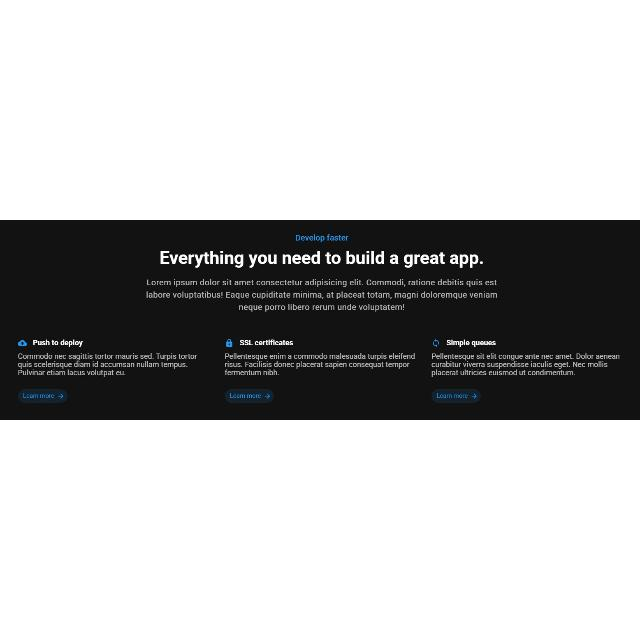QLabel: (160, 250, 484, 270), (430, 350, 622, 378), (17, 352, 197, 378), (223, 352, 417, 376), (145, 278, 498, 288), (146, 292, 498, 298), (238, 302, 406, 312), (292, 232, 350, 242), (30, 339, 84, 347), (238, 339, 294, 346), (447, 339, 498, 346), (23, 393, 54, 399), (230, 393, 260, 399), (437, 394, 468, 398)
VBtn: (431, 389, 481, 403), (224, 389, 274, 403), (18, 391, 68, 404)
VIcon: (224, 339, 233, 349), (18, 339, 28, 347), (432, 339, 440, 347), (264, 394, 270, 398), (58, 394, 64, 398), (472, 394, 476, 398)
